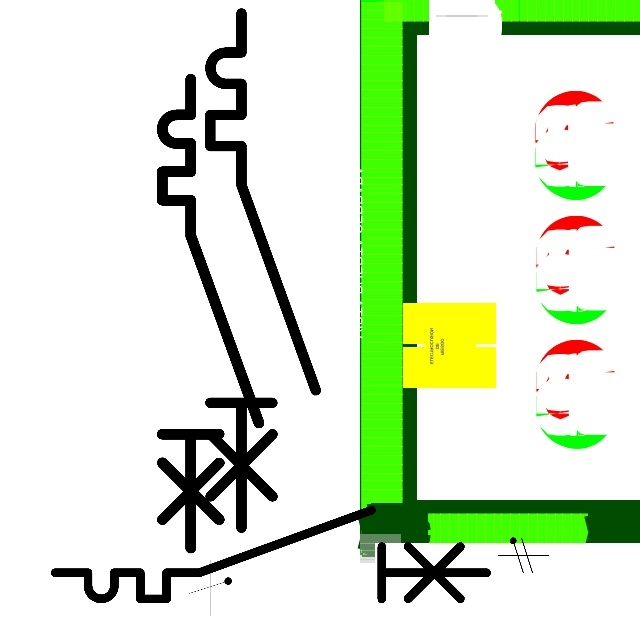interruptor_termomagnetico: (197, 0, 329, 540), (150, 67, 271, 560), (44, 499, 498, 610)
